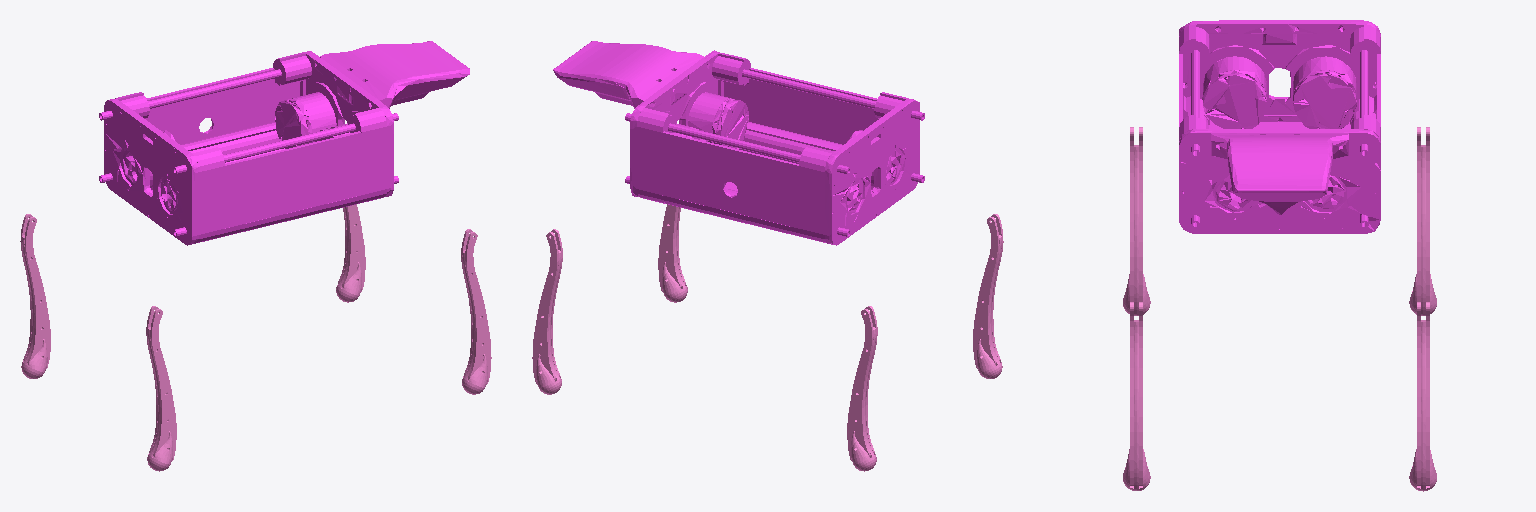
The robot description file, URDF, robot "small_dog":
<?xml version="1.0" encoding="utf-8"?>
<robot
  name="small_dog">
  <link
    name="base_link">
    <inertial>
      <origin
        xyz="0.0202825648779209 0.00066399148366843 2.08163842322154E-05"
        rpy="0 0 0" />
      <mass
        value="2.11560755195777" />
      <inertia
        ixx="0.00283348196517692"
        ixy="-3.63304992055239E-08"
        ixz="-3.77252578412089E-06"
        iyy="0.00400837898156451"
        iyz="1.97892098761945E-08"
        izz="0.00555662908484962"/>
    </inertial>
    <visual>
      <origin
        xyz="0 0 0"
        rpy="0 0 0" />
      <geometry>
        <mesh
          filename="meshes/base_link.stl" />
      </geometry>
      <material
        name="">
        <color
          rgba="1 0.36078431372549 0.968627450980392 1" />
      </material>
    </visual>
    <collision>
      <origin
        xyz="0 0 0"
        rpy="0 0 0" />
      <geometry>
        <mesh
          filename="meshes/base_link.stl" />
      </geometry>
    </collision>
  </link>
  <link
    name="fr_hip_Link">
    <inertial>
      <origin
        xyz="0.0513844005518793 0.000260067781262613 4.15397224372283E-05"
        rpy="0 0 0" />
      <mass
        value="0.34043723566789" />
      <inertia
        ixx="0.000103445352227602"
        ixy="-1.13857930204677E-05"
        ixz="-7.32952869851593E-08"
        iyy="0.000171201826046318"
        iyz="3.21816930032332E-08"
        izz="0.000127555055243353" />
    </inertial>
    <visual>
      <origin
        xyz="0 0 0"
        rpy="0 0 0" />
      <geometry>
        <mesh
          filename="meshes/fr_hip_Link.stl" />
      </geometry>
      <material
        name="">
        <color
          rgba="1 0.454901960784314 0.490196078431373 1" />
      </material>
    </visual>
    <collision>
      <origin
        xyz="0 0 0"
        rpy="0 0 0" />
      <geometry>
        <mesh
          filename="meshes/fr_hip_Link.stl" />
      </geometry>
    </collision>
  </link>
  <joint
    name="fr_hip_joint"
    type="revolute">
    <origin
      xyz="0.1253 -0.039269 -0.004"
      rpy="0 0 0" />
    <parent
      link="base_link" />
    <child
      link="fr_hip_Link" />
    <axis
      xyz="1 0 0" />
    <limit
      lower="-3.14"
      upper="3.14"
      effort="20"
      velocity="10" />
    <dynamics
      damping="0.1"
      friction="0.7" />
  </joint>
  <link
    name="fr_thigh_Link">
    <inertial>
      <origin
        xyz="-0.00013781 -0.033735 -0.0050592"
        rpy="0 0 0" />
      <mass
        value="0.33864" />
      <inertia
        ixx="0.00014987"
        ixy="-3.5914E-07"
        ixz="-4.6444E-06"
        iyy="0.00020094"
        iyz="9.6502E-08"
        izz="8.7105E-05" />
    </inertial>
    <visual>
      <origin
        xyz="0 0 0"
        rpy="0 0 0" />
      <geometry>
        <mesh
          filename="meshes/fr_thigh_Link.stl" />
      </geometry>
      <material
        name="">
        <color
          rgba="0.80392 0.73725 1 1" />
      </material>
    </visual>
    <collision>
      <origin
        xyz="0 0 0"
        rpy="0 0 0" />
      <geometry>
        <mesh
          filename="meshes/fr_thigh_Link.stl" />
      </geometry>
    </collision>
  </link>
  <joint
    name="fr_thigh_joint"
    type="revolute">
    <origin
      xyz="0.059 -0.0265 0"
      rpy="0 0 0" />
    <parent
      link="fr_hip_Link" />
    <child
      link="fr_thigh_Link" />
    <axis
      xyz="0 1 0" />
    <limit
      lower="-3.14"
      upper="3.14"
      effort="20"
      velocity="10" />
    <dynamics
      damping="0.1"
      friction="0.7" />
  </joint>
  <link
    name="fr_calf_Link">
    <inertial>
      <origin
        xyz="0.00855914102627567 3.23080667899434E-06 -0.0746260107039505"
        rpy="0 0 0" />
      <mass
        value="0.0301718861700051" />
      <inertia
        ixx="6.61532600121639E-05"
        ixy="6.02399349934326E-10"
        ixz="3.62478539107652E-06"
        iyy="6.72679989979563E-05"
        iyz="-4.15452693777879E-09"
        izz="1.75951421998646E-06" />
    </inertial>
    <visual>
      <origin
        xyz="0 0 0"
        rpy="0 0 0" />
      <geometry>
        <mesh
          filename="meshes/fr_calf_Link.stl" />
      </geometry>
      <material
        name="">
        <color
          rgba="1 0.588235294117647 0.874509803921569 1" />
      </material>
    </visual>
    <collision>
      <origin
        xyz="0 0 0"
        rpy="0 0 0" />
      <geometry>
        <mesh
          filename="meshes/fr_calf_Link.stl" />
      </geometry>
    </collision>
  </link>
  <joint
    name="fr_calf_joint"
    type="revolute">
    <origin
      xyz="0 -0.06105 -0.12"
      rpy="0 0 0" />
    <parent
      link="fr_thigh_Link" />
    <child
      link="fr_calf_Link" />
    <axis
      xyz="0 1 0" />
    <limit
      lower="-3.14"
      upper="3.14"
      effort="20"
      velocity="10" />
    <dynamics
      damping="0.1"
      friction="0.7" />
  </joint>
  <link
    name="fr_foot_Link">
    <inertial>
      <origin
        xyz="0.0084359 5.3743E-06 0.050364"
        rpy="0 0 0" />
      <mass
        value="0.017747" />
      <inertia
        ixx="3.6811E-05"
        ixy="6.3792E-10"
        ixz="8.6927E-07"
        iyy="3.7317E-05"
        iyz="-4.1534E-09"
        izz="1.1318E-06" />
    </inertial>
    <visual>
      <origin
        xyz="0 0 0"
        rpy="0 0 0" />
      <geometry>
        <mesh
          filename="meshes/fr_foot_Link.stl" />
      </geometry>
      <material
        name="">
        <color
          rgba="1 0.58824 0.87451 1" />
      </material>
    </visual>
    <collision>
      <origin
        xyz="0 0 0"
        rpy="0 0 0" />
      <geometry>
        <mesh
          filename="meshes/fr_foot_Link.stl" />
      </geometry>
    </collision>
  </link>
  <joint
    name="fr_foot_joint"
    type="fixed">
    <origin
      xyz="-3.0082E-05 0 -0.1358"
      rpy="0 0 0" />
    <parent
      link="fr_calf_Link" />
    <child
      link="fr_foot_Link" />
    <axis
      xyz="0 0 0" />
  </joint>
  <link
    name="fl_hip_Link">
    <inertial>
      <origin
        xyz="0.051352 -0.00026007 4.1551E-05"
        rpy="0 0 0" />
      <mass
        value="0.34044" />
      <inertia
        ixx="0.00010345"
        ixy="1.1352E-05"
        ixz="7.3295E-08"
        iyy="0.0001712"
        iyz="-3.2236E-08"
        izz="0.00012756" />
    </inertial>
    <visual>
      <origin
        xyz="0 0 0"
        rpy="0 0 0" />
      <geometry>
        <mesh
          filename="meshes/fl_hip_Link.stl" />
      </geometry>
      <material
        name="">
        <color
          rgba="1 0.4549 0.4902 1" />
      </material>
    </visual>
    <collision>
      <origin
        xyz="0 0 0"
        rpy="0 0 0" />
      <geometry>
        <mesh
          filename="meshes/fl_hip_Link.stl" />
      </geometry>
    </collision>
  </link>
  <joint
    name="fl_hip_joint"
    type="revolute">
    <origin
      xyz="0.1253 0.040731 -0.004"
      rpy="0 0 0" />
    <parent
      link="base_link" />
    <child
      link="fl_hip_Link" />
    <axis
      xyz="1 0 0" />
    <limit
      lower="-3.14"
      upper="3.14"
      effort="20"
      velocity="10" />
    <dynamics
      damping="0.1"
      friction="0.7" />
  </joint>
  <link
    name="fl_thigh_Link">
    <inertial>
      <origin
        xyz="-8.81412925022862E-05 0.0337408644279992 -0.00509346390564031"
        rpy="0 0 0" />
      <mass
        value="0.338706678550711" />
      <inertia
        ixx="0.000150008491773502"
        ixy="2.99586061567117E-07"
        ixz="-4.63931045317407E-06"
        iyy="0.000201035844409253"
        iyz="-5.63137103135073E-08"
        izz="8.70706110756132E-05" />
    </inertial>
    <visual>
      <origin
        xyz="0 0 0"
        rpy="0 0 0" />
      <geometry>
        <mesh
          filename="meshes/fl_thigh_Link.stl" />
      </geometry>
      <material
        name="">
        <color
          rgba="0.498039215686275 0.498039215686275 0.498039215686275 1" />
      </material>
    </visual>
    <collision>
      <origin
        xyz="0 0 0"
        rpy="0 0 0" />
      <geometry>
        <mesh
          filename="meshes/fl_thigh_Link.stl" />
      </geometry>
    </collision>
  </link>
  <joint
    name="fl_thigh_joint"
    type="revolute">
    <origin
      xyz="0.059 0.0265 0"
      rpy="0 0 0" />
    <parent
      link="fl_hip_Link" />
    <child
      link="fl_thigh_Link" />
    <axis
      xyz="0 1 0" />
    <limit
      lower="-3.14"
      upper="3.14"
      effort="20"
      velocity="10" />
    <dynamics
      damping="0.1"
      friction="0.7" />
  </joint>
  <link
    name="fl_calf_Link">
    <inertial>
      <origin
        xyz="0.00857683573887588 3.23080817010712E-06 -0.074625157737458"
        rpy="0 0 0" />
      <mass
        value="0.0301718861768012" />
      <inertia
        ixx="6.61532600146691E-05"
        ixy="6.02395629764789E-10"
        ixz="3.6247853934596E-06"
        iyy="6.72679990027094E-05"
        iyz="-4.15452449674563E-09"
        izz="1.75951422125567E-06" />
    </inertial>
    <visual>
      <origin
        xyz="0 0 0"
        rpy="0 0 0" />
      <geometry>
        <mesh
          filename="meshes/fl_calf_Link.stl" />
      </geometry>
      <material
        name="">
        <color
          rgba="1 0.588235294117647 0.874509803921569 1" />
      </material>
    </visual>
    <collision>
      <origin
        xyz="0 0 0"
        rpy="0 0 0" />
      <geometry>
        <mesh
          filename="meshes/fl_calf_Link.stl" />
      </geometry>
    </collision>
  </link>
  <joint
    name="fl_calf_joint"
    type="revolute">
    <origin
      xyz="0 0.06105 -0.12"
      rpy="0 0 0" />
    <parent
      link="fl_thigh_Link" />
    <child
      link="fl_calf_Link" />
    <axis
      xyz="0 1 0" />
    <limit
      lower="-3.14"
      upper="3.14"
      effort="20"
      velocity="10" />
    <dynamics
      damping="0.1"
      friction="0.7" />
  </joint>
  <link
    name="fl_foot_Link">
    <inertial>
      <origin
        xyz="0.00846598914018792 5.37428501143355E-06 0.0503656566276244"
        rpy="0 0 0" />
      <mass
        value="0.0177473871104084" />
      <inertia
        ixx="3.68111747036232E-05"
        ixy="6.37914098788171E-10"
        ixz="8.69269355653562E-07"
        iyy="3.73168749580359E-05"
        iyz="-4.15339373800246E-09"
        izz="1.13184028995917E-06" />
    </inertial>
    <visual>
      <origin
        xyz="0 0 0"
        rpy="0 0 0" />
      <geometry>
        <mesh
          filename="meshes/fl_foot_Link.stl" />
      </geometry>
      <material
        name="">
        <color
          rgba="1 0.588235294117647 0.874509803921569 1" />
      </material>
    </visual>
    <collision>
      <origin
        xyz="0 0 0"
        rpy="0 0 0" />
      <geometry>
        <mesh
          filename="meshes/fl_foot_Link.stl" />
      </geometry>
    </collision>
  </link>
  <joint
    name="fl_foot_joint"
    type="fixed">
    <origin
      xyz="-3.0082E-05 0 -0.1358"
      rpy="0 0 0" />
    <parent
      link="fl_calf_Link" />
    <child
      link="fl_foot_Link" />
    <axis
      xyz="0 0 0" />
  </joint>
  <link
    name="br_hip_Link">
    <inertial>
      <origin
        xyz="-0.05141 0.00025902 1.5824E-05"
        rpy="0 0 0" />
      <mass
        value="0.34044" />
      <inertia
        ixx="0.00010359"
        ixy="1.1335E-05"
        ixz="7.2564E-08"
        iyy="0.0001712"
        iyz="-1.6739E-08"
        izz="0.00012741" />
    </inertial>
    <visual>
      <origin
        xyz="0 0 0"
        rpy="0 0 0" />
      <geometry>
        <mesh
          filename="meshes/br_hip_Link.stl" />
      </geometry>
      <material
        name="">
        <color
          rgba="0.17647 0.2549 1 1" />
      </material>
    </visual>
    <collision>
      <origin
        xyz="0 0 0"
        rpy="0 0 0" />
      <geometry>
        <mesh
          filename="meshes/br_hip_Link.stl" />
      </geometry>
    </collision>
  </link>
  <joint
    name="br_hip_joint"
    type="revolute">
    <origin
      xyz="-0.1251 -0.039269 -0.004"
      rpy="0 0 0" />
    <parent
      link="base_link" />
    <child
      link="br_hip_Link" />
    <axis
      xyz="1 0 0" />
    <limit
      lower="-3.14"
      upper="3.14"
      effort="20"
      velocity="10" />
    <dynamics
      damping="0.1"
      friction="0.7" />
  </joint>
  <link
    name="br_thigh_Link">
    <inertial>
      <origin
        xyz="-0.000175864490293248 -0.0337353132715568 -0.00510917637994259"
        rpy="0 0 0" />
      <mass
        value="0.338643644412202" />
      <inertia
        ixx="0.00014982589936667"
        ixy="-3.4883769553751E-07"
        ixz="-4.44001267804291E-06"
        iyy="0.00020093723029609"
        iyz="4.6846647473264E-08"
        izz="8.71520914798543E-05" />
    </inertial>
    <visual>
      <origin
        xyz="0 0 0"
        rpy="0 0 0" />
      <geometry>
        <mesh
          filename="meshes/br_thigh_Link.stl" />
      </geometry>
      <material
        name="">
        <color
          rgba="0.498039215686275 0.498039215686275 0.498039215686275 1" />
      </material>
    </visual>
    <collision>
      <origin
        xyz="0 0 0"
        rpy="0 0 0" />
      <geometry>
        <mesh
          filename="meshes/br_thigh_Link.stl" />
      </geometry>
    </collision>
  </link>
  <joint
    name="br_thigh_joint"
    type="revolute">
    <origin
      xyz="-0.059 -0.0265 0"
      rpy="0 0 0" />
    <parent
      link="br_hip_Link" />
    <child
      link="br_thigh_Link" />
    <axis
      xyz="0 1 0" />
    <limit
      lower="-3.14"
      upper="3.14"
      effort="20"
      velocity="10" />
    <dynamics
      damping="0.1"
      friction="0.7" />
  </joint>
  <link
    name="br_calf_Link">
    <inertial>
      <origin
        xyz="0.0085892 3.2308E-06 -0.074625"
        rpy="0 0 0" />
      <mass
        value="0.030172" />
      <inertia
        ixx="6.6153E-05"
        ixy="6.024E-10"
        ixz="3.6248E-06"
        iyy="6.7268E-05"
        iyz="-4.1545E-09"
        izz="1.7595E-06" />
    </inertial>
    <visual>
      <origin
        xyz="0 0 0"
        rpy="0 0 0" />
      <geometry>
        <mesh
          filename="meshes/br_calf_Link.stl" />
      </geometry>
      <material
        name="">
        <color
          rgba="1 0.58824 0.87451 1" />
      </material>
    </visual>
    <collision>
      <origin
        xyz="0 0 0"
        rpy="0 0 0" />
      <geometry>
        <mesh
          filename="meshes/br_calf_Link.stl" />
      </geometry>
    </collision>
  </link>
  <joint
    name="br_calf_joint"
    type="revolute">
    <origin
      xyz="-3.0082E-05 -0.06105 -0.12"
      rpy="0 0 0" />
    <parent
      link="br_thigh_Link" />
    <child
      link="br_calf_Link" />
    <axis
      xyz="0 1 0" />
    <limit
      lower="-3.14"
      upper="3.14"
      effort="20"
      velocity="10" />
    <dynamics
      damping="0.1"
      friction="0.7" />
  </joint>
  <link
    name="br_foot_Link">
    <inertial>
      <origin
        xyz="0.00843590682609976 5.37428027966302E-06 0.0503642065089495"
        rpy="0 0 0" />
      <mass
        value="0.0177473871185457" />
      <inertia
        ixx="3.68111747069174E-05"
        ixy="6.37916731717983E-10"
        ixz="8.69269359716783E-07"
        iyy="3.73168749655741E-05"
        iyz="-4.15339581014455E-09"
        izz="1.13184029195447E-06" />
    </inertial>
    <visual>
      <origin
        xyz="0 0 0"
        rpy="0 0 0" />
      <geometry>
        <mesh
          filename="meshes/br_foot_Link.stl" />
      </geometry>
      <material
        name="">
        <color
          rgba="1 0.588235294117647 0.874509803921569 1" />
      </material>
    </visual>
    <collision>
      <origin
        xyz="0 0 0"
        rpy="0 0 0" />
      <geometry>
        <mesh
          filename="meshes/br_foot_Link.stl" />
      </geometry>
    </collision>
  </link>
  <joint
    name="br_foot_joint"
    type="fixed">
    <origin
      xyz="0 0 -0.135801667314578"
      rpy="0 0 0" />
    <parent
      link="br_calf_Link" />
    <child
      link="br_foot_Link" />
    <axis
      xyz="0 0 0" />
  </joint>
  <link
    name="bl_hip_Link">
    <inertial>
      <origin
        xyz="-0.05141 -0.00025986 -1.6754E-05"
        rpy="0 0 0" />
      <mass
        value="0.34044" />
      <inertia
        ixx="0.00010359"
        ixy="-1.1336E-05"
        ixz="-7.3958E-08"
        iyy="0.0001712"
        iyz="-1.6739E-08"
        izz="0.00012741" />
    </inertial>
    <visual>
      <origin
        xyz="0 0 0"
        rpy="0 0 0" />
      <geometry>
        <mesh
          filename="meshes/bl_hip_Link.stl" />
      </geometry>
      <material
        name="">
        <color
          rgba="0.17647 0.2549 1 1" />
      </material>
    </visual>
    <collision>
      <origin
        xyz="0 0 0"
        rpy="0 0 0" />
      <geometry>
        <mesh
          filename="meshes/bl_hip_Link.stl" />
      </geometry>
    </collision>
  </link>
  <joint
    name="bl_hip_joint"
    type="revolute">
    <origin
      xyz="-0.1251 0.040731 -0.004"
      rpy="0 0 0" />
    <parent
      link="base_link" />
    <child
      link="bl_hip_Link" />
    <axis
      xyz="1 0 0" />
    <limit
      lower="-3.14"
      upper="3.14"
      effort="20"
      velocity="10" />
    <dynamics
      damping="0.1"
      friction="0.7" />
  </joint>
  <link
    name="bl_thigh_Link">
    <inertial>
      <origin
        xyz="-0.000174633961940202 0.0337408657110319 -0.00510805007191862"
        rpy="0 0 0" />
      <mass
        value="0.338706692675785" />
      <inertia
        ixx="0.000149930848741881"
        ixy="3.54613691237965E-07"
        ixz="-4.67094547779951E-06"
        iyy="0.000201035770090342"
        iyz="-1.01429766023653E-07"
        izz="8.71481801927137E-05" />
    </inertial>
    <visual>
      <origin
        xyz="0 0 0"
        rpy="0 0 0" />
      <geometry>
        <mesh
          filename="meshes/bl_thigh_Link.stl" />
      </geometry>
      <material
        name="">
        <color
          rgba="0.498039215686275 0.498039215686275 0.498039215686275 1" />
      </material>
    </visual>
    <collision>
      <origin
        xyz="0 0 0"
        rpy="0 0 0" />
      <geometry>
        <mesh
          filename="meshes/bl_thigh_Link.stl" />
      </geometry>
    </collision>
  </link>
  <joint
    name="bl_thigh_joint"
    type="revolute">
    <origin
      xyz="-0.059 0.0265 0"
      rpy="0 0 0" />
    <parent
      link="bl_hip_Link" />
    <child
      link="bl_thigh_Link" />
    <axis
      xyz="0 1 0" />
    <limit
      lower="-3.14"
      upper="3.14"
      effort="20"
      velocity="10" />
    <dynamics
      damping="0.1"
      friction="0.7" />
  </joint>
  <link
    name="bl_calf_Link">
    <inertial>
      <origin
        xyz="0.00858922335951964 3.23080411332444E-06 -0.0746245605958555"
        rpy="0 0 0" />
      <mass
        value="0.0301718861787431" />
      <inertia
        ixx="6.61532600153436E-05"
        ixy="6.02395922679604E-10"
        ixz="3.62478539391261E-06"
        iyy="6.72679990037208E-05"
        iyz="-4.15452626966429E-09"
        izz="1.75951422152838E-06" />
    </inertial>
    <visual>
      <origin
        xyz="0 0 0"
        rpy="0 0 0" />
      <geometry>
        <mesh
          filename="meshes/bl_calf_Link.stl" />
      </geometry>
      <material
        name="">
        <color
          rgba="1 0.588235294117647 0.874509803921569 1" />
      </material>
    </visual>
    <collision>
      <origin
        xyz="0 0 0"
        rpy="0 0 0" />
      <geometry>
        <mesh
          filename="meshes/bl_calf_Link.stl" />
      </geometry>
    </collision>
  </link>
  <joint
    name="bl_calf_joint"
    type="revolute">
    <origin
      xyz="-3.0082E-05 0.06105 -0.12"
      rpy="0 0 0" />
    <parent
      link="bl_thigh_Link" />
    <child
      link="bl_calf_Link" />
    <axis
      xyz="0 1 0" />
    <limit
      lower="-3.14"
      upper="3.14"
      effort="20"
      velocity="10" />
    <dynamics
      damping="0.1"
      friction="0.7" />
  </joint>
  <link
    name="bl_foot_Link">
    <inertial>
      <origin
        xyz="0.00843590681448789 5.37428048441591E-06 0.050364206510565"
        rpy="0 0 0" />
      <mass
        value="0.0177473871123503" />
      <inertia
        ixx="3.68111747042977E-05"
        ixy="6.37914327322693E-10"
        ixz="8.69269356106555E-07"
        iyy="3.73168749590473E-05"
        iyz="-4.15339480919244E-09"
        izz="1.13184029023188E-06" />
    </inertial>
    <visual>
      <origin
        xyz="0 0 0"
        rpy="0 0 0" />
      <geometry>
        <mesh
          filename="meshes/bl_foot_Link.stl" />
      </geometry>
      <material
        name="">
        <color
          rgba="1 0.588235294117647 0.874509803921569 1" />
      </material>
    </visual>
    <collision>
      <origin
        xyz="0 0 0"
        rpy="0 0 0" />
      <geometry>
        <mesh
          filename="meshes/bl_foot_Link.stl" />
      </geometry>
    </collision>
  </link>
  <joint
    name="bl_foot_joint"
    type="fixed">
    <origin
      xyz="0 0 -0.135801667308367"
      rpy="0 0 0" />
    <parent
      link="bl_calf_Link" />
    <child
      link="bl_foot_Link" />
    <axis
      xyz="0 0 0" />
  </joint>
</robot>

--- What the picture shows (computed from the rendered views, not written in the file) ---
Views: 3 orthographic renders of the robot side by side, from view 1: azimuth 30°, elevation 25°; view 2: azimuth 150°, elevation 25°; view 3: azimuth 270°, elevation 25°.
Model small_dog with 17 links and 16 joints (12 revolute, 4 fixed), rooted at base_link, posed every joint at zero.
Visible links, largest first — view 1: base_link, br_calf_Link, bl_calf_Link, fr_calf_Link, fl_calf_Link, fr_foot_Link, fl_foot_Link; view 2: base_link, bl_calf_Link, br_calf_Link, fl_calf_Link, fr_calf_Link, fl_foot_Link; view 3: base_link, br_calf_Link, bl_calf_Link, fr_calf_Link, fl_calf_Link, fl_foot_Link, fr_foot_Link.
Boxes of the visible links, x1,y1,x2,y2 form: base_link: [99, 41, 469, 245]; br_calf_Link: [146, 306, 176, 471]; bl_calf_Link: [20, 214, 50, 378]; fr_calf_Link: [461, 229, 491, 394]; fl_calf_Link: [336, 204, 365, 302]; fr_foot_Link: [462, 250, 487, 387]; fl_foot_Link: [336, 207, 361, 295]; base_link: [553, 41, 924, 245]; bl_calf_Link: [847, 306, 877, 471]; br_calf_Link: [973, 214, 1003, 378]; fl_calf_Link: [532, 229, 562, 394]; fr_calf_Link: [658, 205, 687, 302]; fl_foot_Link: [536, 250, 561, 387]; base_link: [1179, 20, 1380, 233]; br_calf_Link: [1123, 127, 1150, 315]; bl_calf_Link: [1409, 127, 1436, 315]; fr_calf_Link: [1123, 302, 1149, 490]; fl_calf_Link: [1410, 302, 1436, 491]; fl_foot_Link: [1409, 320, 1436, 488]; fr_foot_Link: [1123, 320, 1150, 488].
Size in the robot's own frame: 0.4285 by 0.2801 by 0.3257 metres.
Meshes: 17 distinct files referenced, 9 mesh visuals loaded (9 binary STL); not drawn: 8 (reference not matched to a file when rendering).
